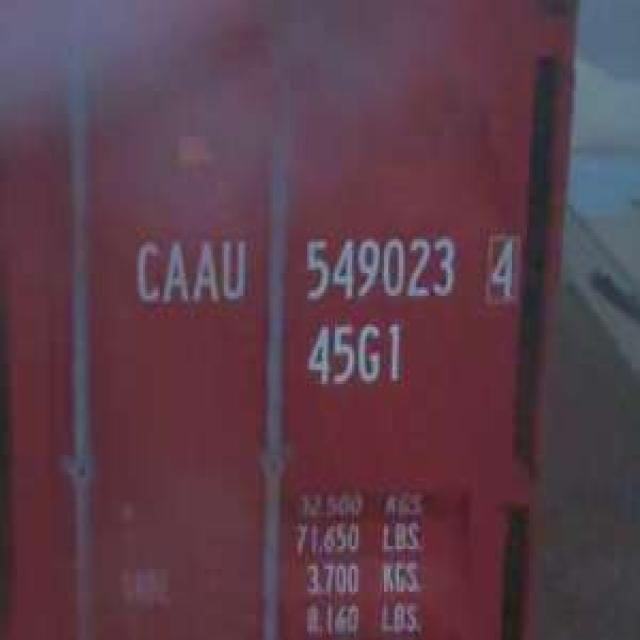dv: (478, 228, 523, 304)
owner: (126, 227, 249, 313)
serial: (296, 228, 458, 307)
size: (298, 313, 408, 395)
